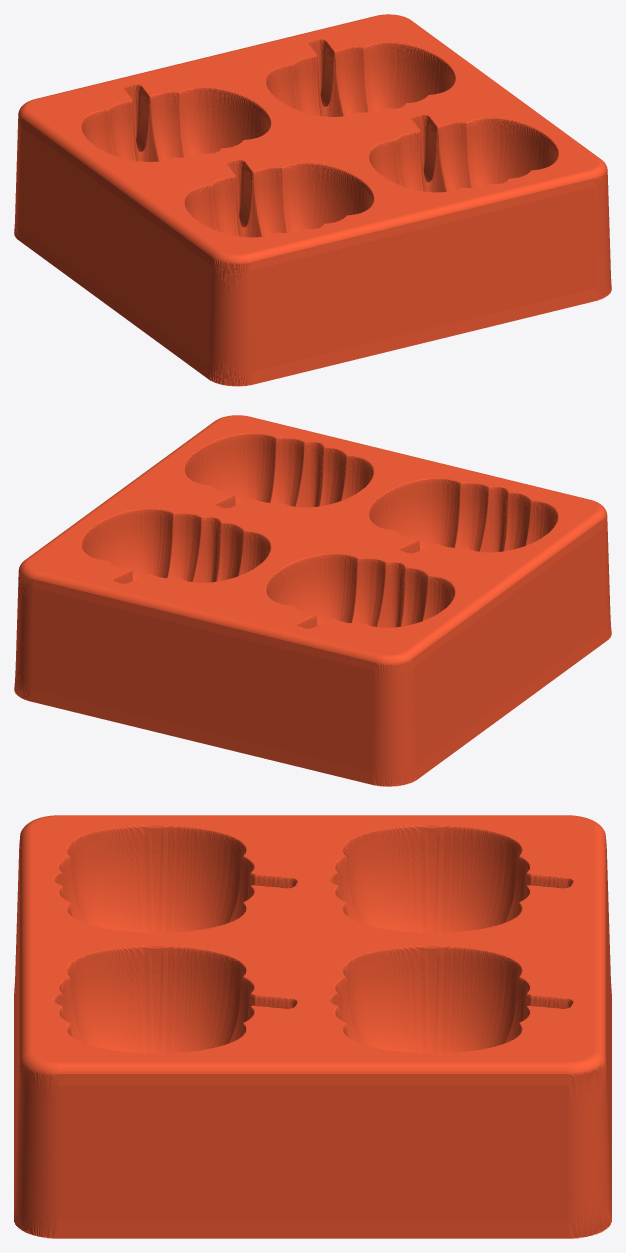
Rendered from mold.glb.
The picture shows the model from 3 angles, top to bottom: view 1: azimuth 30°, elevation 25°; view 2: azimuth 150°, elevation 25°; view 3: azimuth 270°, elevation 25°; orthographic projection. The views are drawn at different scales.
Parts seen in each view (by area): view 1: geometry_0; view 2: geometry_0; view 3: geometry_0.
Part boxes in pixels (box(x1,y1,x2,y2)): geometry_0: box(14, 14, 611, 386); geometry_0: box(14, 415, 611, 786); geometry_0: box(14, 815, 611, 1238).
Size of the model in its own units: 0.1248 by 0.0377 by 0.121.
